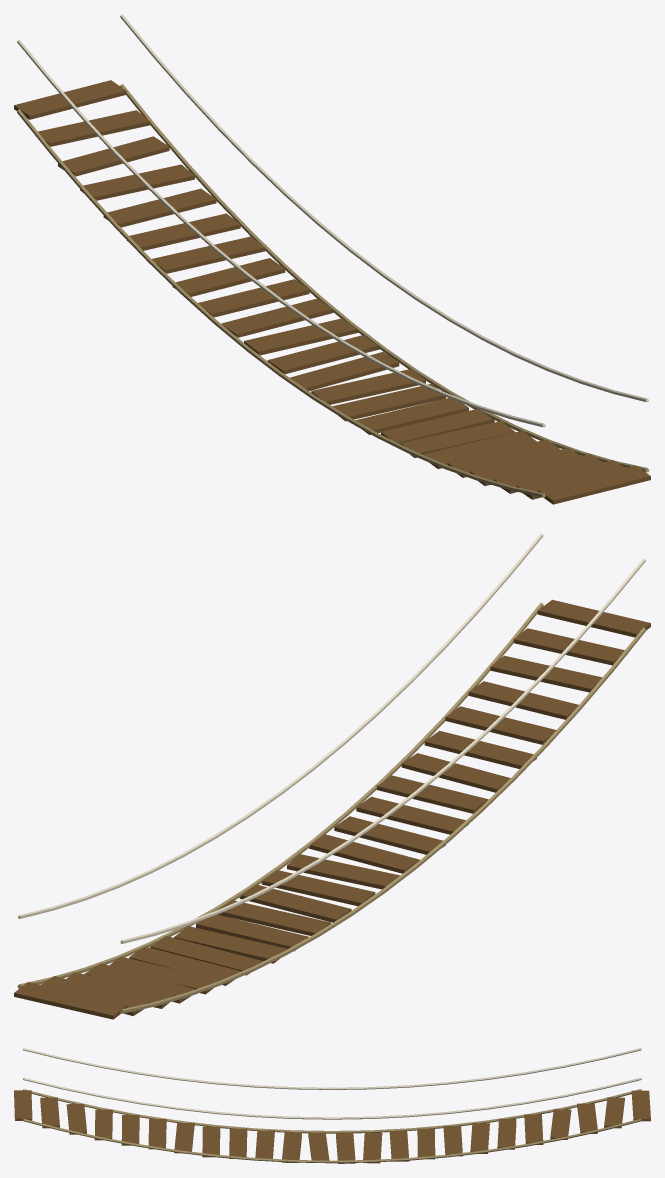
The model's file is rope_bridge.glb.
3 renders of one model, top to bottom at view 1: azimuth 30°, elevation 25°; view 2: azimuth 150°, elevation 25°; view 3: azimuth 270°, elevation 25°, orthographic. The views are drawn at different scales.
Parts seen in each view (by area): view 1: rope_bridge; view 2: rope_bridge; view 3: rope_bridge.
Boxes of the visible parts, x1,y1,x2,y2 form: rope_bridge: (14, 14, 650, 504); rope_bridge: (14, 533, 650, 1019); rope_bridge: (14, 1048, 650, 1163).
Bounding box in the file's own units: 1.41 × 1.85 × 12.37.
